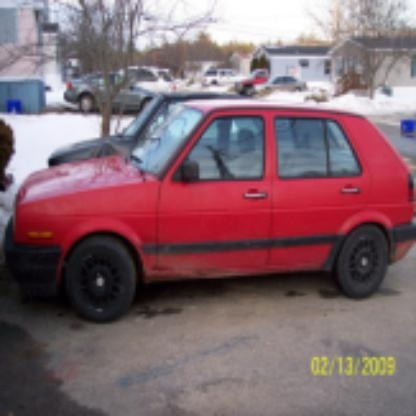Vehicle: (3, 88, 415, 327)
